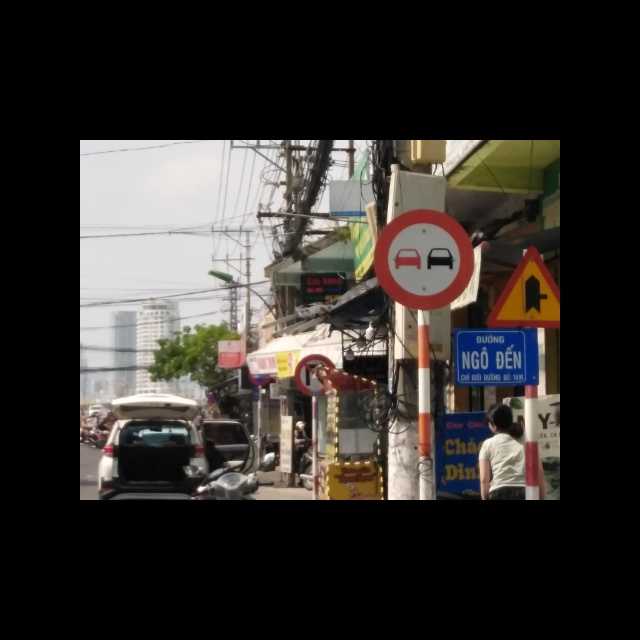Cấm vượt: (368, 209, 471, 313)
Giao nhau với đường không ưu tiên: (488, 248, 562, 334)
